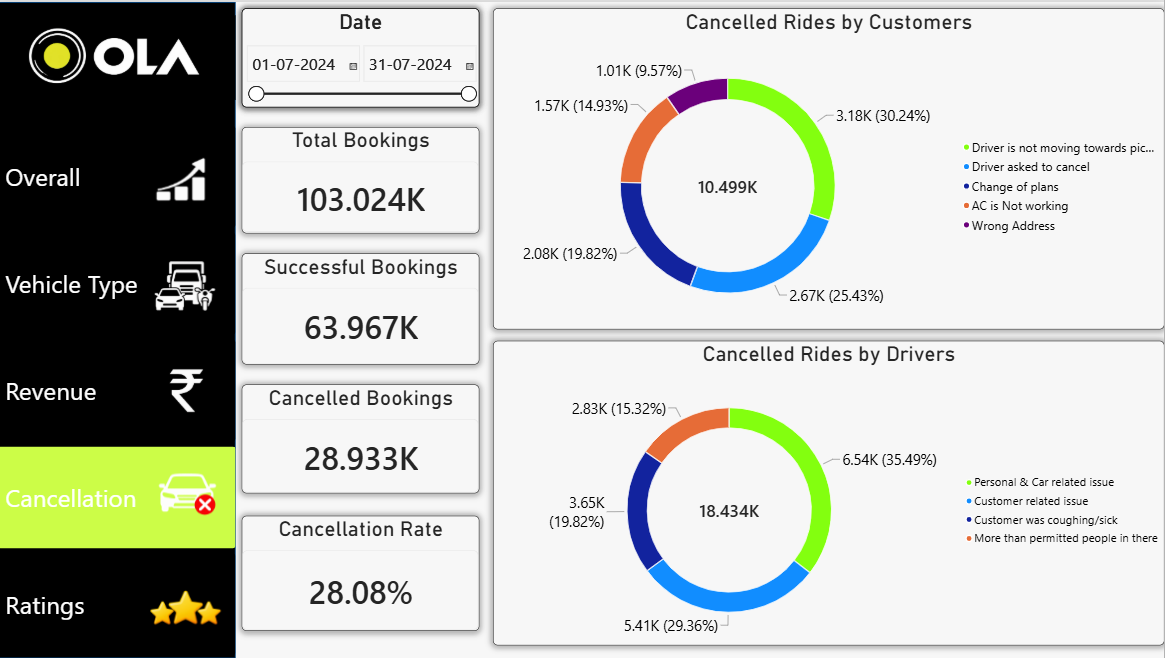

This screenshot's page, from the dashboard's own definition file:
{"tool":"powerbi","page":{"name":"Cancellation","canvas":[1920,1080],"ordinal":3},"visuals":[{"type":"shape","box":[0,0,391.1,1080.6],"z":0},{"type":"image","box":[0,10.3,391.1,162.6],"z":1000},{"type":"pageNavigator","box":[0,203.2,391.1,876.8],"z":2000},{"type":"actionButton","box":[242.9,242.9,115.3,96.7],"z":3000},{"type":"actionButton","box":[195.5,378.7,224.4,162.6],"z":4000},{"type":"actionButton","box":[228.5,557.8,162.6,162.6],"z":5000},{"type":"actionButton","box":[197.6,720.4,228.5,179.1],"z":6000},{"type":"actionButton","box":[197.6,917.4,222.3,162.6],"z":7000},{"type":"donutChart","title":"Cancelled Rides by Customers","fields":{"Category":["Bookings-100000-Rows xlsx - July.Canceled_Rides_by_Customer"],"Y":["CountNonNull(Bookings-100000-Rows xlsx - July.Canceled_Rides_by_Customer)"]},"box":[814.3,10.7,1105.4,528.6],"z":8000},{"type":"donutChart","title":"Cancelled Rides by Drivers","fields":{"Category":["Bookings-100000-Rows xlsx - July.Canceled_Rides_by_Driver"],"Y":["CountNonNull(Bookings-100000-Rows xlsx - July.Canceled_Rides_by_Driver)"]},"box":[814.3,557.1,1105.4,501.8],"z":9000},{"type":"slicer","title":"Date","fields":{"Values":["Bookings-100000-Rows xlsx - July.Date"]},"box":[401,10,391,163],"z":10000},{"type":"cardVisual","title":"Total Bookings","fields":{"Data":["CountNonNull(Bookings-100000-Rows xlsx - July.Booking_ID)"]},"box":[401.4,205.8,391.1,175],"z":11000},{"type":"cardVisual","title":"Successful Bookings","fields":{"Data":["CountNonNull(Bookings-100000-Rows xlsx - July.Booking_ID)"]},"box":[401.4,413.7,391.1,183.2],"z":12000},{"type":"cardVisual","title":"Cancelled Bookings","fields":{"Data":["CountNonNull(Bookings-100000-Rows xlsx - July.Booking_ID)"]},"box":[401.4,629.8,391.1,179.1],"z":13000},{"type":"cardVisual","title":"Cancellation Rate","fields":{"Data":["Bookings-100000-Rows xlsx - July.Cancelled Percentage"]},"box":[401.4,846,391.1,189.4],"z":14000},{"type":"slicer","title":"Date","fields":{"Values":["Bookings-100000-Rows xlsx - July.Date"]},"box":[401.4,10.3,391,163],"z":15000}]}

Visuals, with their boxes in screenshot pixels (x1, y1, x2, y2), scaled from the page's 1920x1080 canvas onto the 1165x658 screenshot:
shape: crop(0, 0, 237, 657)
image: crop(0, 6, 237, 105)
pageNavigator: crop(0, 124, 237, 657)
actionButton: crop(147, 148, 217, 207)
actionButton: crop(119, 231, 255, 330)
actionButton: crop(139, 340, 237, 439)
actionButton: crop(120, 439, 259, 548)
actionButton: crop(120, 559, 255, 657)
"Cancelled Rides by Customers" donutChart: crop(494, 7, 1164, 329)
"Cancelled Rides by Drivers" donutChart: crop(494, 339, 1164, 645)
"Date" slicer: crop(243, 6, 481, 105)
"Total Bookings" cardVisual: crop(244, 125, 481, 232)
"Successful Bookings" cardVisual: crop(244, 252, 481, 364)
"Cancelled Bookings" cardVisual: crop(244, 384, 481, 493)
"Cancellation Rate" cardVisual: crop(244, 515, 481, 631)
"Date" slicer: crop(244, 6, 481, 106)
